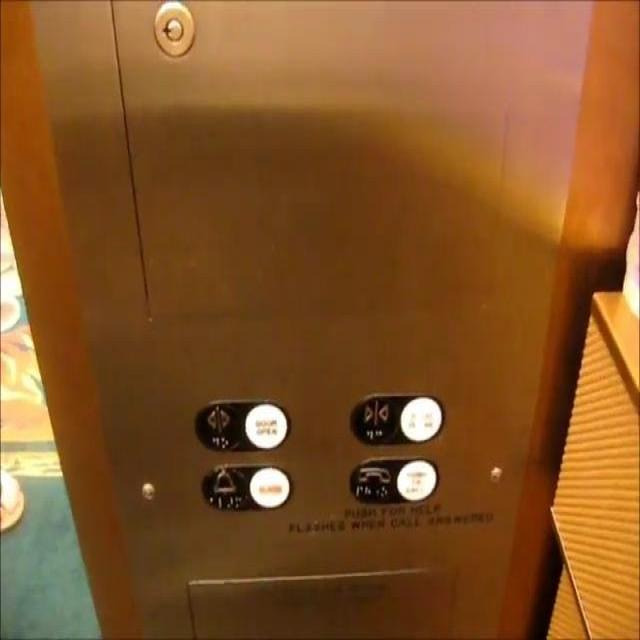alarm: (199, 462, 293, 510)
call: (348, 452, 440, 504)
close: (349, 391, 446, 445)
keyhole: (150, 0, 197, 59)
open: (194, 399, 291, 453)
